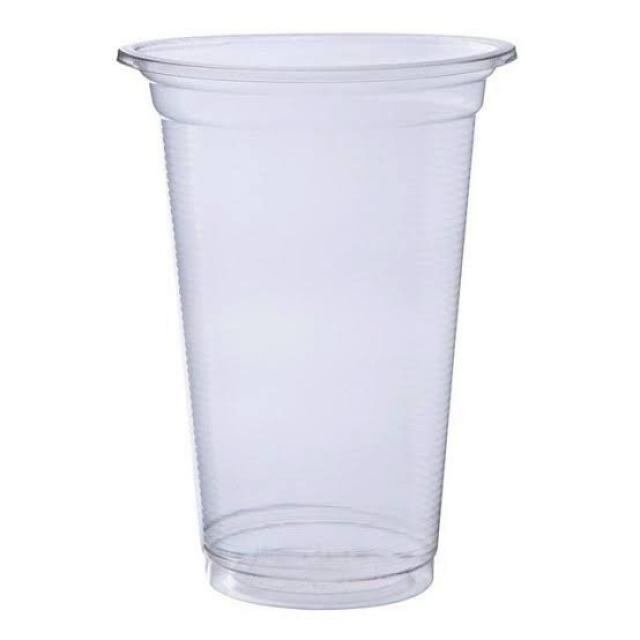plastic cup: (112, 33, 523, 610)
